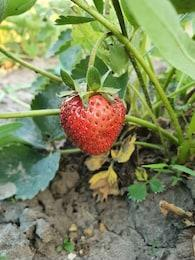Fresa: (56, 86, 128, 160)
